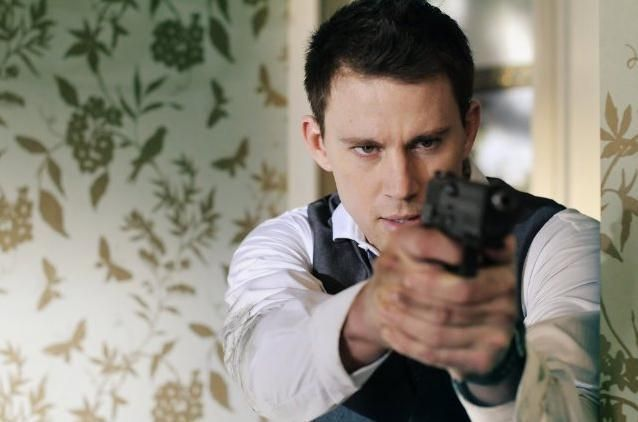gun: (405, 162, 533, 298)
